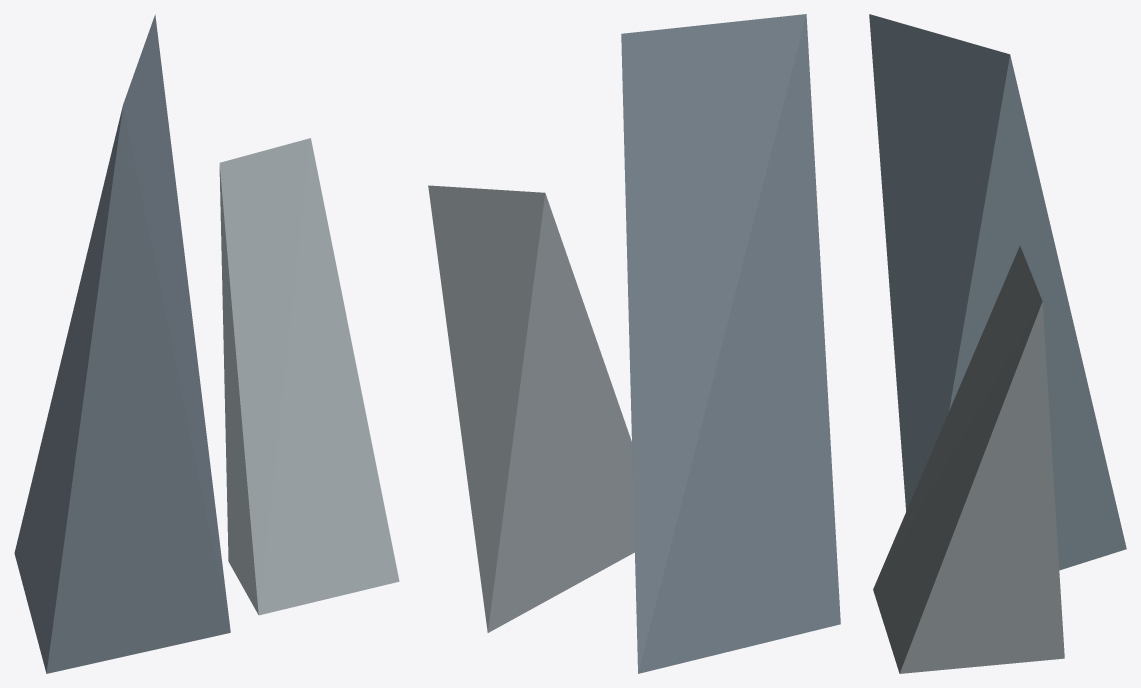
File: Rock_03_LOD2.fbx
3 renders of one model, left to right at view 1: azimuth 30°, elevation 25°; view 2: azimuth 150°, elevation 25°; view 3: azimuth 270°, elevation 25°, orthographic. The views are drawn at different scales.
Parts seen in each view (by area): view 1: Rock_03_LOD2; view 2: Rock_03_LOD2; view 3: Rock_03_LOD2.
Boxes of the visible parts, <box> form: Rock_03_LOD2: <box>14,14,399,673</box>; Rock_03_LOD2: <box>428,14,840,673</box>; Rock_03_LOD2: <box>869,14,1126,673</box>.
Bounding box in the file's own units: 152 × 248 × 104.
